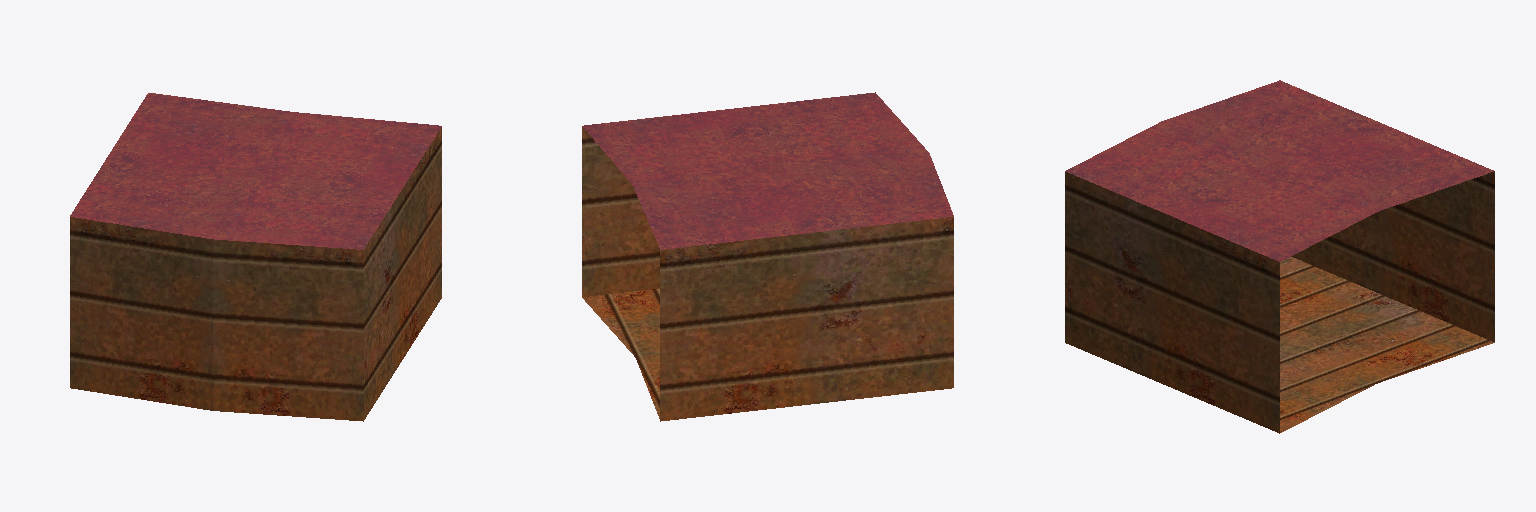
3 renders of one model, left to right at view 1: azimuth 30°, elevation 25°; view 2: azimuth 150°, elevation 25°; view 3: azimuth 270°, elevation 25°, orthographic.
Parts seen in each view (by area): view 1: FloatyLandPlanet.001_Circle.000; view 2: FloatyLandPlanet.001_Circle.000; view 3: FloatyLandPlanet.001_Circle.000.
Part boxes in pixels (bbox=[...]): FloatyLandPlanet.001_Circle.000: bbox=[70, 93, 441, 421]; FloatyLandPlanet.001_Circle.000: bbox=[582, 92, 953, 421]; FloatyLandPlanet.001_Circle.000: bbox=[1065, 80, 1494, 433].
Bounding box in the file's own units: 784 × 349 × 784.
Materials: 2 (2 with a texture image).